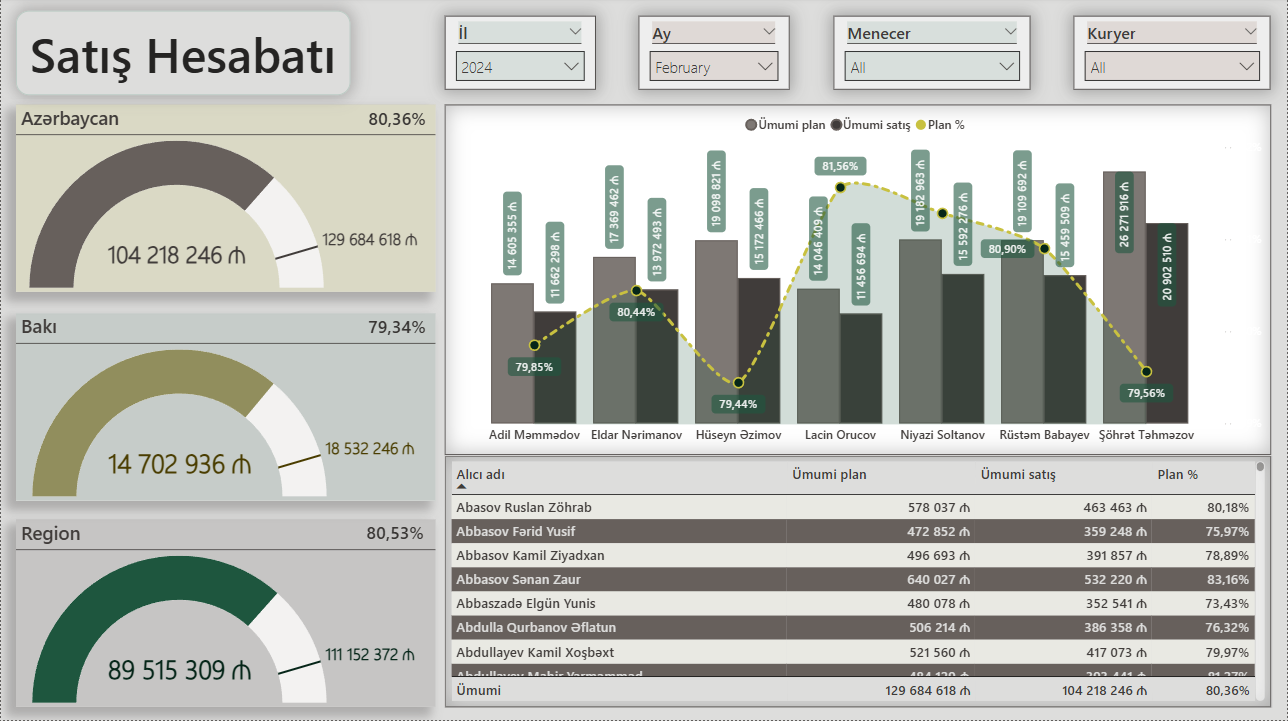

The dashboard page shown, as its layout file describes it:
{"tool":"powerbi","page":{"name":"Satış","canvas":[1280,720],"ordinal":0},"visuals":[{"type":"slicer","fields":{"Values":["Tarix.Date.Variation.Date Hierarchy.Year"]},"box":[441.2,18.8,150,73.8],"z":0},{"type":"slicer","fields":{"Values":["Tarix.Date.Variation.Date Hierarchy.Month"]},"box":[634.6,18.8,150,73.8],"z":1000},{"type":"slicer","fields":{"Values":["Alıcı Bazası.Menecer"]},"box":[827.9,18.8,196.2,73.8],"z":2000},{"type":"slicer","fields":{"Values":["Alıcı Bazası.Kuryer"]},"box":[1067.5,18.8,196.2,73.8],"z":3000},{"type":"textbox","box":[15,13.8,332.5,83.8],"z":4000},{"type":"gauge","title":"Azərbaycan","fields":{"Y":["Satış DAX.Ümumi satış"],"MaxValue":["Satış DAX.Gauge"],"TargetValue":["Satış DAX.Ümumi plan"]},"box":[15,107.5,417.5,186.2],"z":4000,"group":"g1"},{"type":"gauge","title":"Bakı","fields":{"Y":["Satış DAX.Ümumi satış"],"MaxValue":["Satış DAX.Gauge"],"TargetValue":["Satış DAX.Ümumi plan"]},"box":[15,315,417.5,186.2],"z":4000,"group":"g3"},{"type":"gauge","title":"Region","fields":{"Y":["Satış DAX.Ümumi satış"],"MaxValue":["Satış DAX.Gauge"],"TargetValue":["Satış DAX.Ümumi plan"]},"box":[15,520,417.5,186.2],"z":4000,"group":"g2"},{"type":"lineClusteredColumnComboChart","fields":{"Category":["Alıcı Bazası.Menecer","Alıcı Bazası.Kuryer"],"Y":["Satış DAX.Ümumi plan","Satış DAX.Ümumi satış"],"Y2":["Satış DAX.Plan gerçəkləşmə %"]},"box":[441.2,107.5,822.5,348.8],"z":5000},{"type":"card","fields":{"Values":["Satış DAX.Plan gerçəkləşmə %"]},"box":[357.5,108.1,75,30],"z":6000,"group":"g1"},{"type":"card","fields":{"Values":["Satış DAX.Plan gerçəkləşmə %"]},"box":[357.5,315,75,30],"z":6000,"group":"g3"},{"type":"tableEx","fields":{"Values":["Alıcı Bazası.Alıcı adı","Satış DAX.Ümumi plan","Satış DAX.Ümumi satış","Satış DAX.Plan gerçəkləşmə %"]},"box":[441.2,456.2,822.5,250],"z":6000},{"type":"card","fields":{"Values":["Satış DAX.Plan gerçəkləşmə %"]},"box":[353.8,520,78.8,30],"z":6000,"group":"g2"},{"type":"group","id":"g1","title":"Group 1","box":[15,107.5,417.5,186.2],"z":7000},{"type":"group","id":"g2","title":"Group 1","box":[15,520,417.5,186.2],"z":8000},{"type":"group","id":"g3","title":"Group 1","box":[15,315,417.5,186.2],"z":9000}]}

Visuals, with their boxes in screenshot pixels (x1, y1, x2, y2), scaled from the page's 1280x720 canvas onto the 1288x721 screenshot:
slicer - Tarix.Date.Variation.Date Hierarchy.Year: left=444, top=19, right=595, bottom=93
slicer - Tarix.Date.Variation.Date Hierarchy.Month: left=639, top=19, right=790, bottom=93
slicer - Alıcı Bazası.Menecer: left=833, top=19, right=1031, bottom=93
slicer - Alıcı Bazası.Kuryer: left=1074, top=19, right=1272, bottom=93
textbox: left=15, top=14, right=350, bottom=98
"Azərbaycan" gauge: left=15, top=108, right=435, bottom=294
"Bakı" gauge: left=15, top=315, right=435, bottom=502
"Region" gauge: left=15, top=521, right=435, bottom=707
lineClusteredColumnComboChart - Alıcı Bazası.Menecer x Alıcı Bazası.Kuryer: left=444, top=108, right=1272, bottom=457
card - Satış DAX.Plan gerçəkləşmə %: left=360, top=108, right=435, bottom=138
card - Satış DAX.Plan gerçəkləşmə %: left=360, top=315, right=435, bottom=345
tableEx - Alıcı Bazası.Alıcı adı x Satış DAX.Ümumi plan: left=444, top=457, right=1272, bottom=707
card - Satış DAX.Plan gerçəkləşmə %: left=356, top=521, right=435, bottom=551
"Group 1" group: left=15, top=108, right=435, bottom=294
"Group 1" group: left=15, top=521, right=435, bottom=707
"Group 1" group: left=15, top=315, right=435, bottom=502
